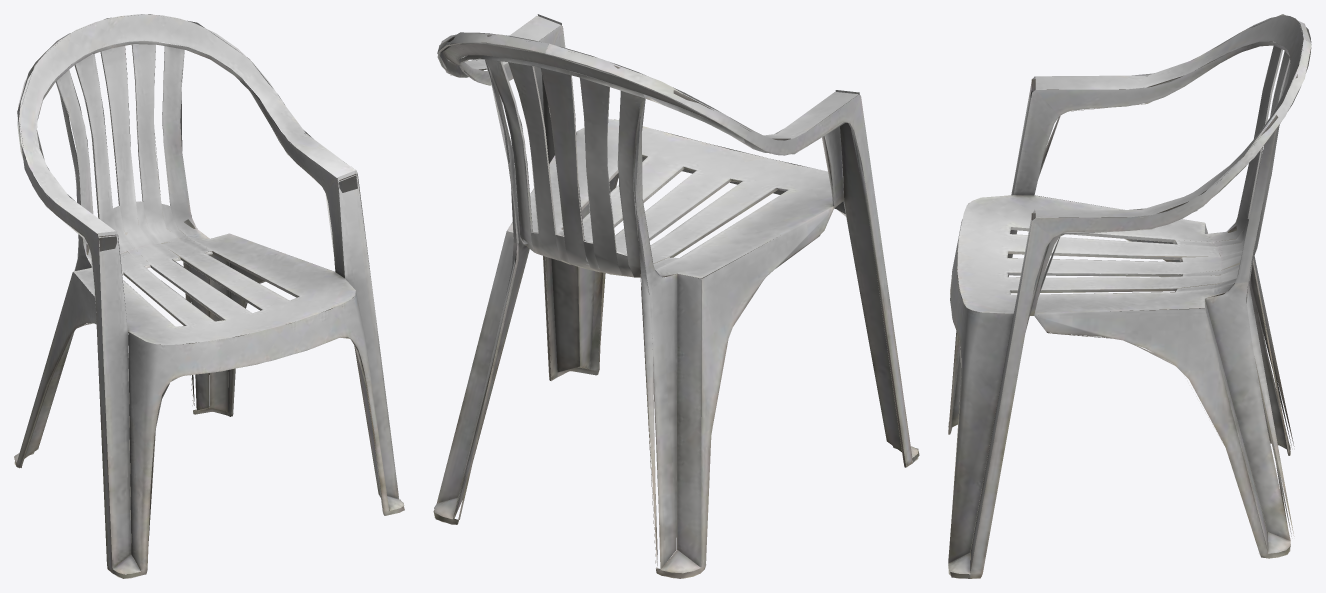
Rendered from u_ph_plastic_monobloc_chair_01.glb.
3 views of the same model, side by side, from view 1: azimuth 30°, elevation 25°; view 2: azimuth 150°, elevation 25°; view 3: azimuth 270°, elevation 25° (orthographic). The views are drawn at different scales.
Visible parts, largest first — view 1: plastic_monobloc_chair_01; view 2: plastic_monobloc_chair_01; view 3: plastic_monobloc_chair_01.
Boxes of the visible parts, bbox=[...] form: plastic_monobloc_chair_01: bbox=[14, 14, 404, 578]; plastic_monobloc_chair_01: bbox=[433, 14, 919, 578]; plastic_monobloc_chair_01: bbox=[948, 14, 1311, 578].
Size of the model in its own units: 0.6455 by 0.8806 by 0.6282.
1 material, 1 textured.
